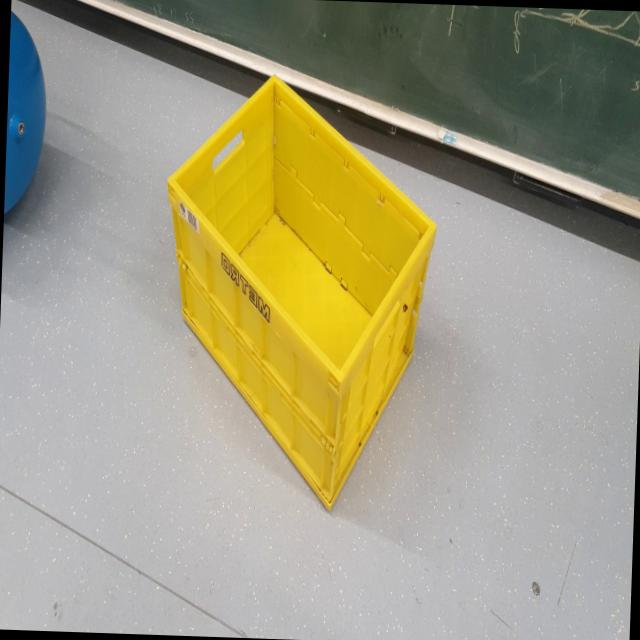box: (140, 68, 446, 520)
